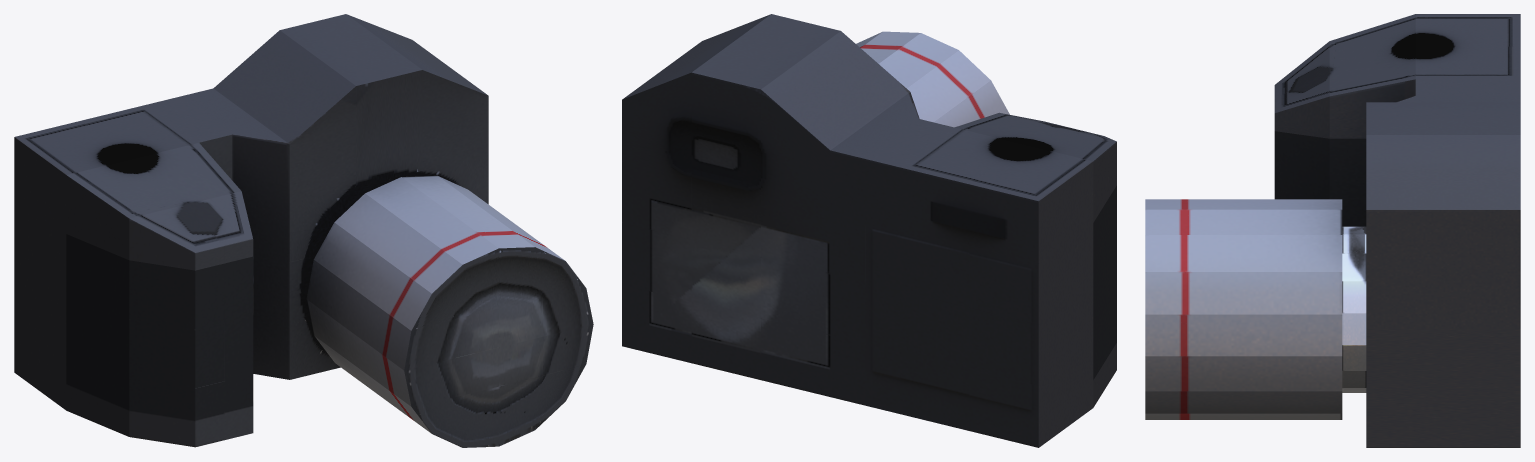
File: camera01.fbx
3 renders of one model, left to right at view 1: azimuth 30°, elevation 25°; view 2: azimuth 150°, elevation 25°; view 3: azimuth 270°, elevation 25°, orthographic. The views are drawn at different scales.
Visible parts, largest first — view 1: DSLR.001; view 2: DSLR.001; view 3: DSLR.001.
Boxes of the visible parts, left/top/right/bottom form: DSLR.001: left=14, top=14, right=593, bottom=447; DSLR.001: left=622, top=14, right=1116, bottom=447; DSLR.001: left=1145, top=14, right=1520, bottom=447.
Bounding box in the file's own units: 0.1964 × 0.1589 × 0.136.
1 material, 1 textured.
